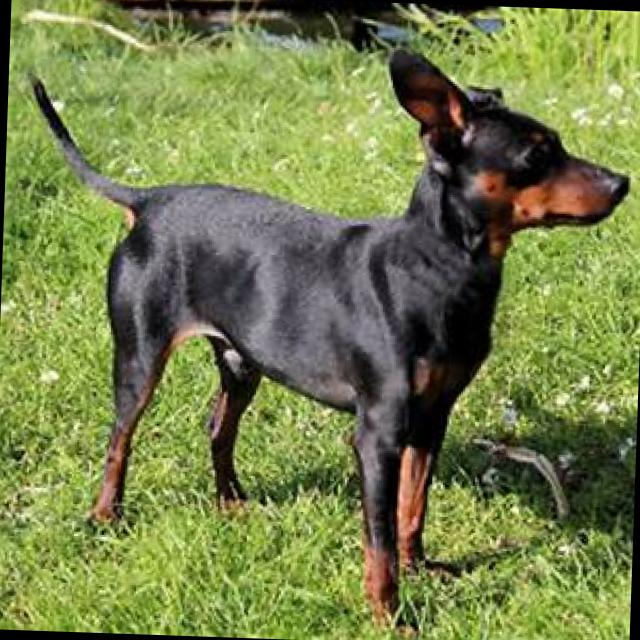animal: (8, 32, 636, 640)
